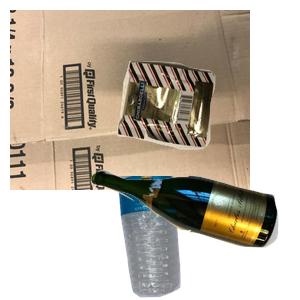cardboard: (10, 10, 250, 190)
glass: (88, 167, 300, 300)
plastic: (115, 176, 288, 300)
trash: (115, 58, 300, 200)
